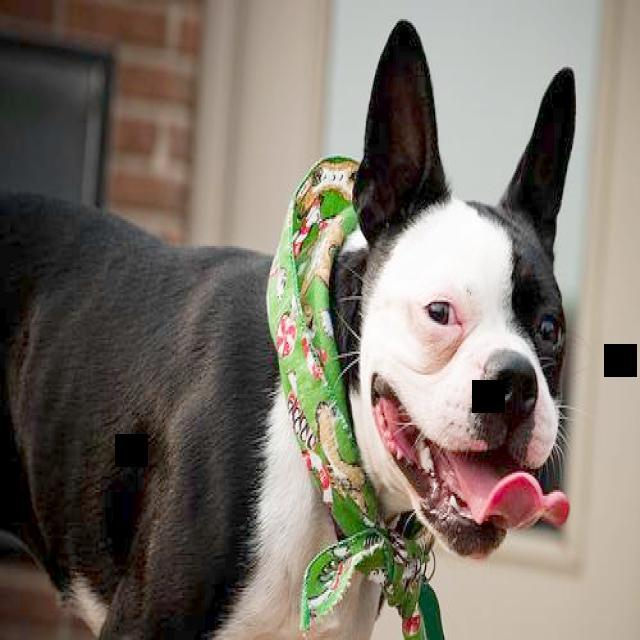adult_dog: (1, 13, 578, 633)
